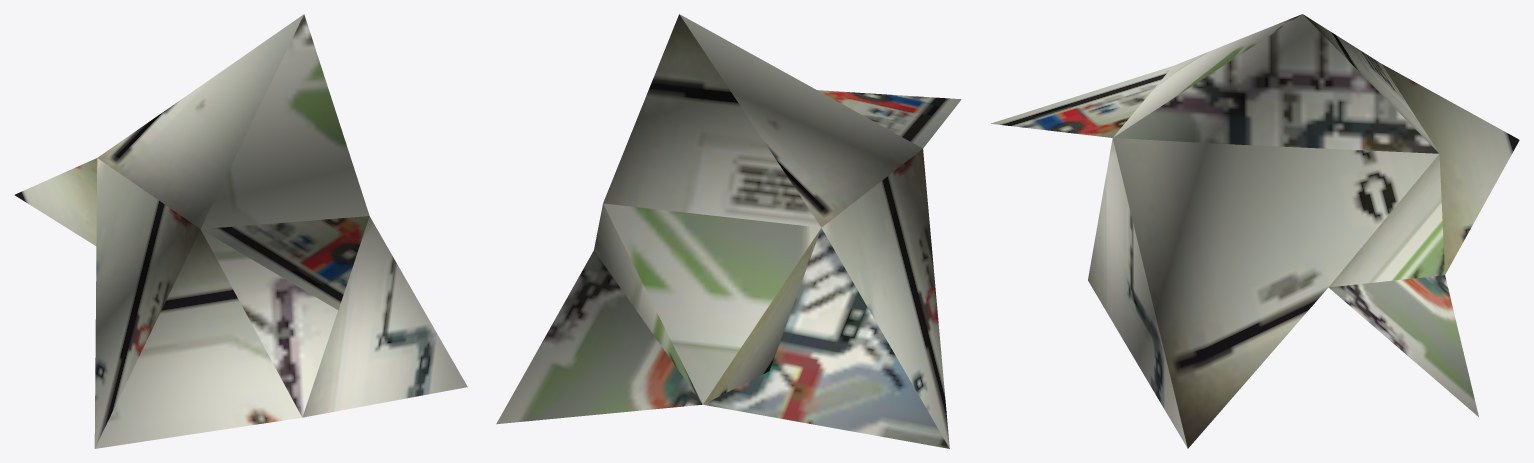
The model's file is common_trash_paper_02.glb.
3 views of the same model, side by side, from view 1: azimuth 30°, elevation 25°; view 2: azimuth 150°, elevation 25°; view 3: azimuth 270°, elevation 25° (orthographic). The views are drawn at different scales.
Parts seen in each view (by area): view 1: common/common_trash_paper_02_0; view 2: common/common_trash_paper_02_0; view 3: common/common_trash_paper_02_0.
Boxes of the visible parts, x1,y1,x2,y2 form: common/common_trash_paper_02_0: (14,14,467,448); common/common_trash_paper_02_0: (496,14,961,448); common/common_trash_paper_02_0: (991,14,1519,448).
Size of the model in its own units: 1.56 by 1.59 by 2.
1 material, 1 textured.
